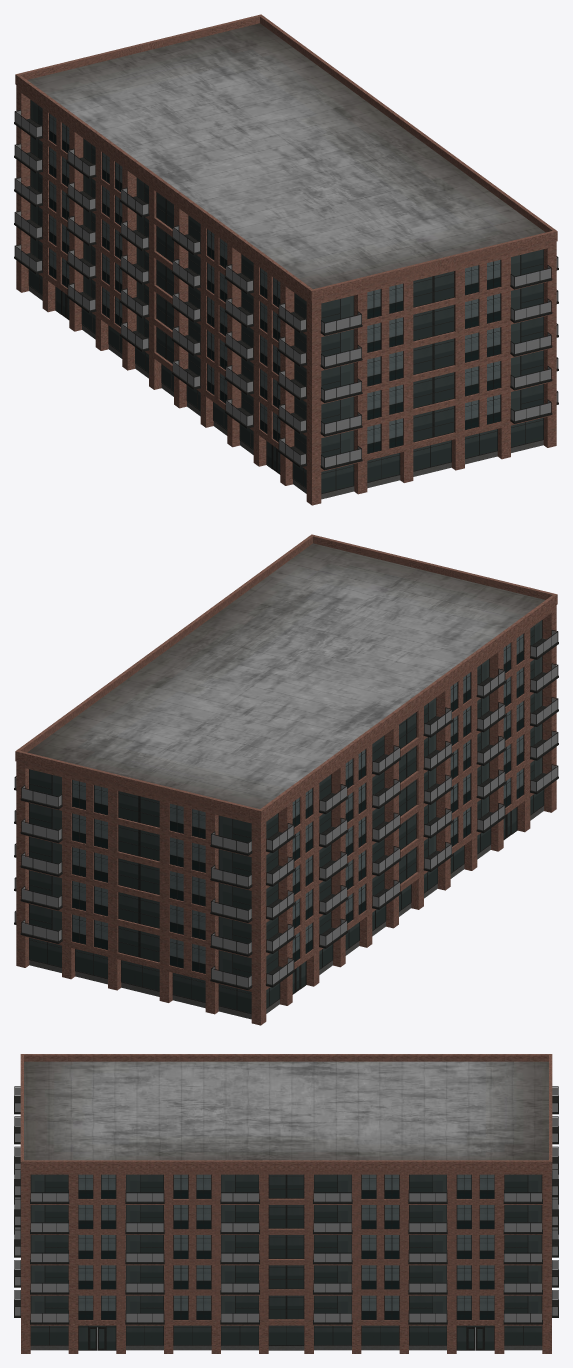
Rendered from brick-mid.glb.
The picture shows the model from 3 angles, top to bottom: view 1: azimuth 30°, elevation 25°; view 2: azimuth 150°, elevation 25°; view 3: azimuth 270°, elevation 25°; orthographic projection. The views are drawn at different scales.
Parts seen in each view (by area): view 1: Brick_Mid_Rise; view 2: Brick_Mid_Rise; view 3: Brick_Mid_Rise.
Boxes of the visible parts, x1=… form: Brick_Mid_Rise: x1=14, y1=14, x2=558, y2=505; Brick_Mid_Rise: x1=14, y1=534, x2=558, y2=1025; Brick_Mid_Rise: x1=14, y1=1054, x2=558, y2=1353.
Size of the model in its own units: 22.54 by 17.85 by 45.8.
Materials: 1 (1 with a texture image).
